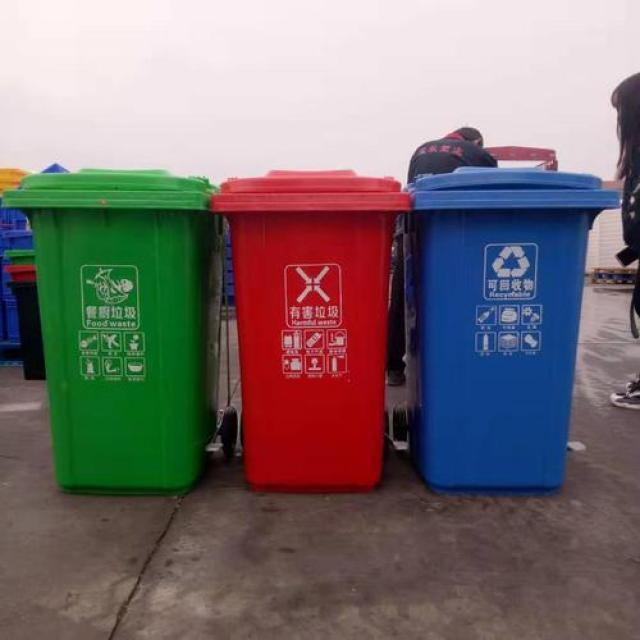garbage_bin: (0, 166, 223, 496), (403, 166, 618, 494), (208, 169, 410, 491)
